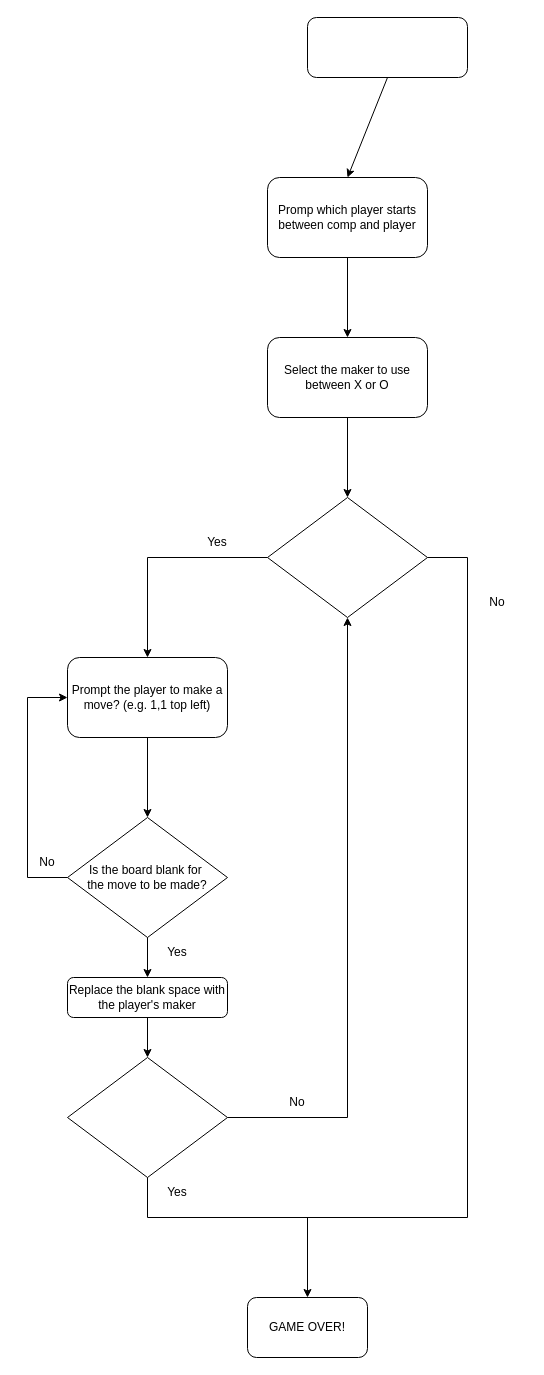
The diagram is 544 pixels wide and 1375 high, and some of its shapes have lost their labels. Here are the shapes that lost their labels. From the top down, the box of each, then its label:
(306, 16, 468, 78): START
(266, 496, 428, 618): Does the board still have clear spaces
(66, 1056, 228, 1178): Are there 3 same makers inline horizotal, vertical or diognal
